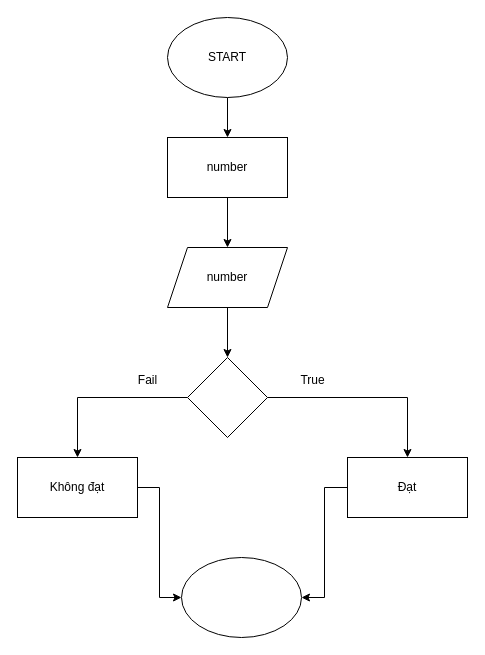
Image size: 485x655. Some labels were removed from this diagram. The box of each missing label's shape, as (x1, y1, x2, y2) in pixels:
END: (180, 556, 302, 638)
number>5: (186, 356, 268, 438)
